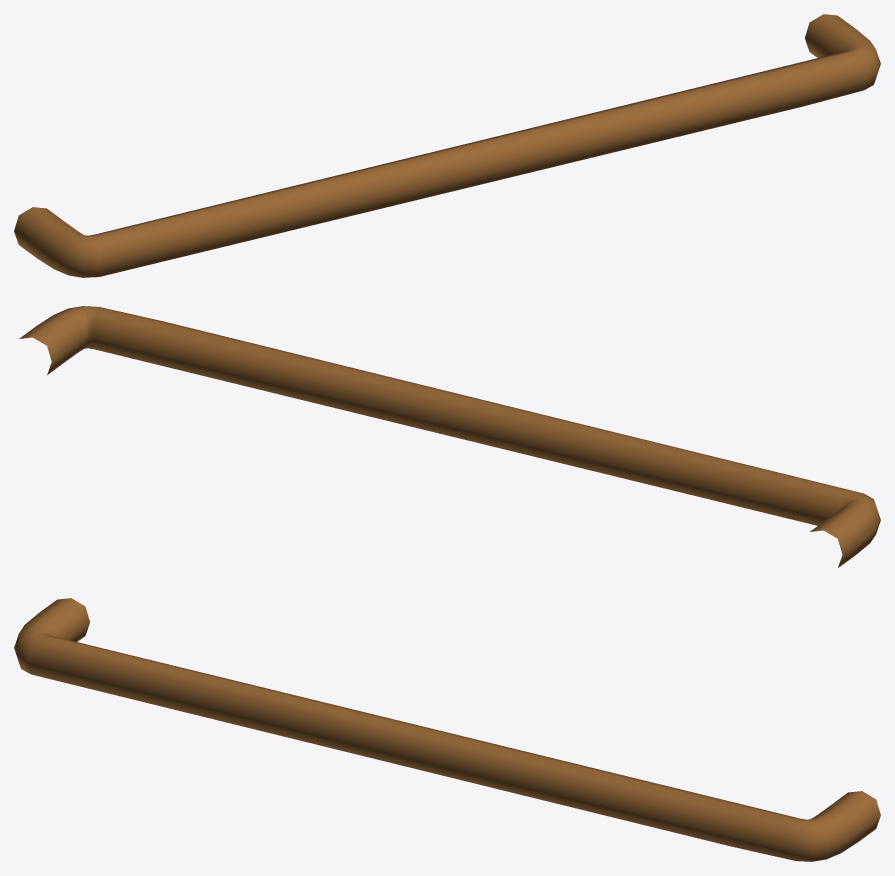
Rendered from quaternius-cyberpunk-pipe-2.glb.
The picture shows the model from 3 angles, top to bottom: view 1: azimuth 30°, elevation 25°; view 2: azimuth 150°, elevation 25°; view 3: azimuth 330°, elevation 25°; orthographic projection.
Visible parts, largest first — view 1: Pipe_2; view 2: Pipe_2; view 3: Pipe_2.
Boxes of the visible parts, box(x1,y1,x2,y2) form: Pipe_2: box(14, 14, 880, 277); Pipe_2: box(19, 306, 880, 567); Pipe_2: box(14, 598, 880, 861).
Bounding box in the file's own units: 4.62 × 0.2123 × 0.5521.
